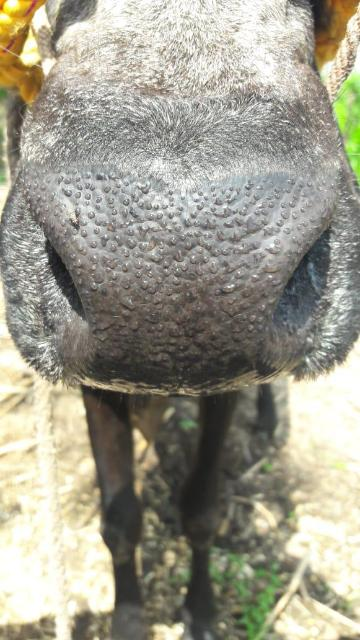Muzzle: (25, 160, 321, 390)
